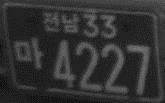2: (101, 43, 130, 93), (76, 41, 103, 92)
3: (81, 12, 100, 38), (99, 13, 117, 39)
4: (52, 38, 77, 89)
7: (125, 43, 153, 98)
마: (12, 37, 43, 70)
전남_O: (42, 10, 80, 34)
